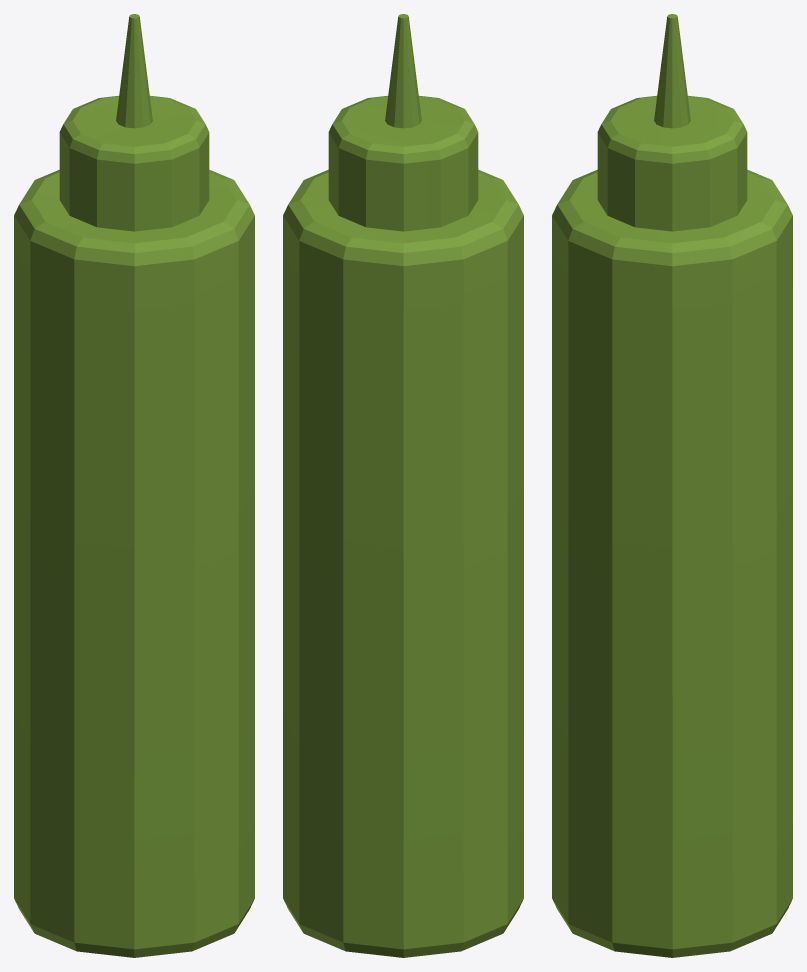
The model's file is Food_06.fbx.
3 renders of one model, left to right at view 1: azimuth 30°, elevation 25°; view 2: azimuth 150°, elevation 25°; view 3: azimuth 270°, elevation 25°, orthographic.
Visible parts, largest first — view 1: Food_06; view 2: Food_06; view 3: Food_06.
Boxes of the visible parts, <box> form: Food_06: <box>14,14,254,957</box>; Food_06: <box>283,14,523,957</box>; Food_06: <box>552,14,792,957</box>.
Bounding box in the file's own units: 0.0872 × 0.3585 × 0.0872.
